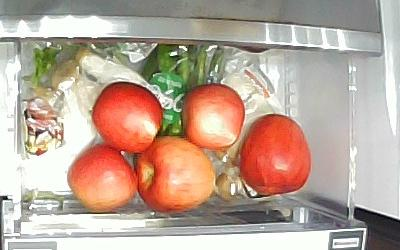apple: (239, 114, 314, 198), (136, 137, 215, 214), (65, 144, 138, 213), (92, 82, 163, 152), (179, 83, 244, 148)
